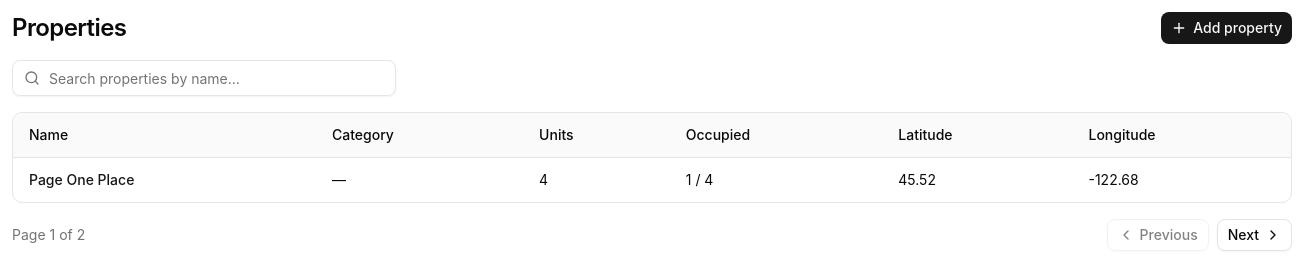
Test: PropertiesPage › pages through the list by offset
Check: the link "Page One Place" is shown, box [29, 171, 134, 188]
Check: the text "Page 1 of 2" is shown, box [12, 225, 85, 245]
What coordinates should you click on to do the following:
click the button "Next"
I would click on:
 (1254, 235)
Its box is [1217, 219, 1292, 251].
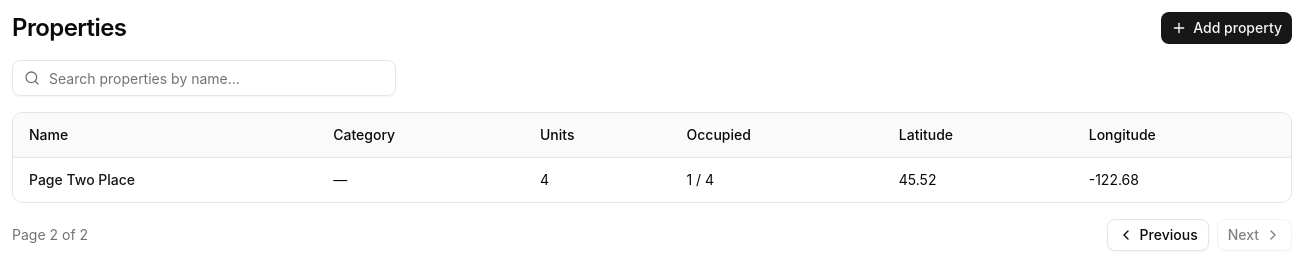
Check: the link "Page Two Place" is shown, box [29, 171, 135, 188]
Check: the text "Page 2 of 2" is shown, box [12, 225, 88, 245]
Check: the button "Next" is disabled, box [1217, 219, 1292, 251]
